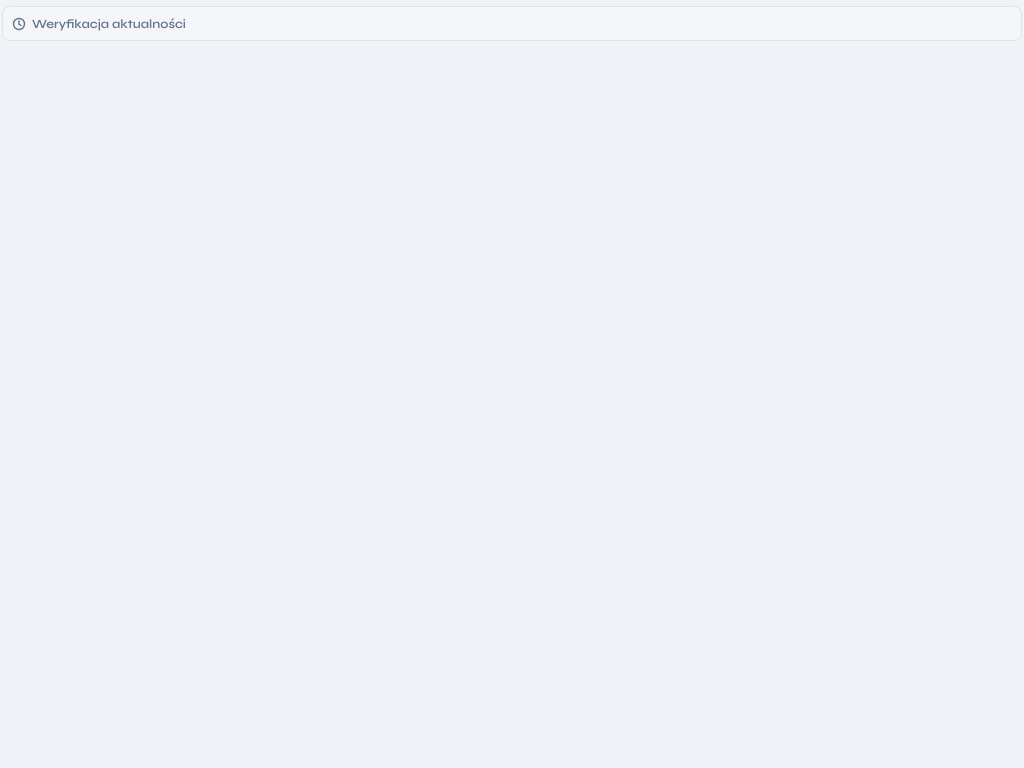
Test: ActualityReviewPanel › konflikt wersji (409) zostawia listę bez rekordu i odświeża ją, pokazując komunikat
Step 1. Click the button "Weryfikacja aktualności" → click(109, 24), box left=2, top=6, right=1022, bottom=41
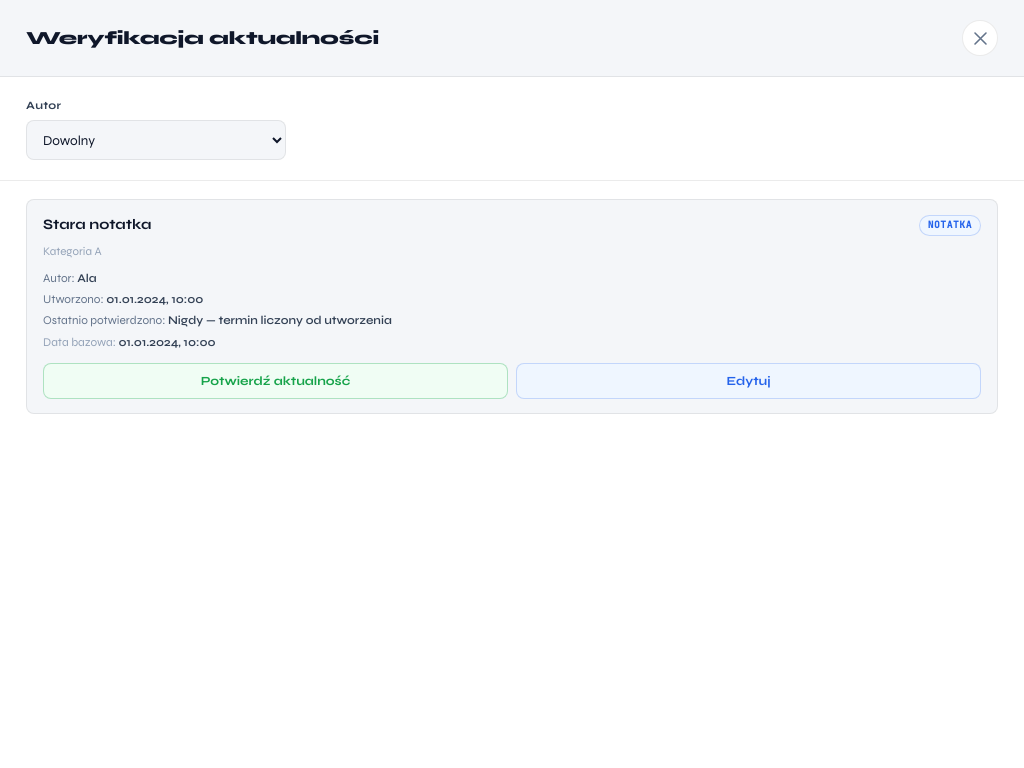
Expected: the dialog "Weryfikacja aktualności" is shown
Expected: the text "Stara notatka" is shown, left=43, top=216, right=151, bottom=233
Step 2. Click the button "Potwierdź aktualność" → click(276, 381), box left=43, top=363, right=508, bottom=399
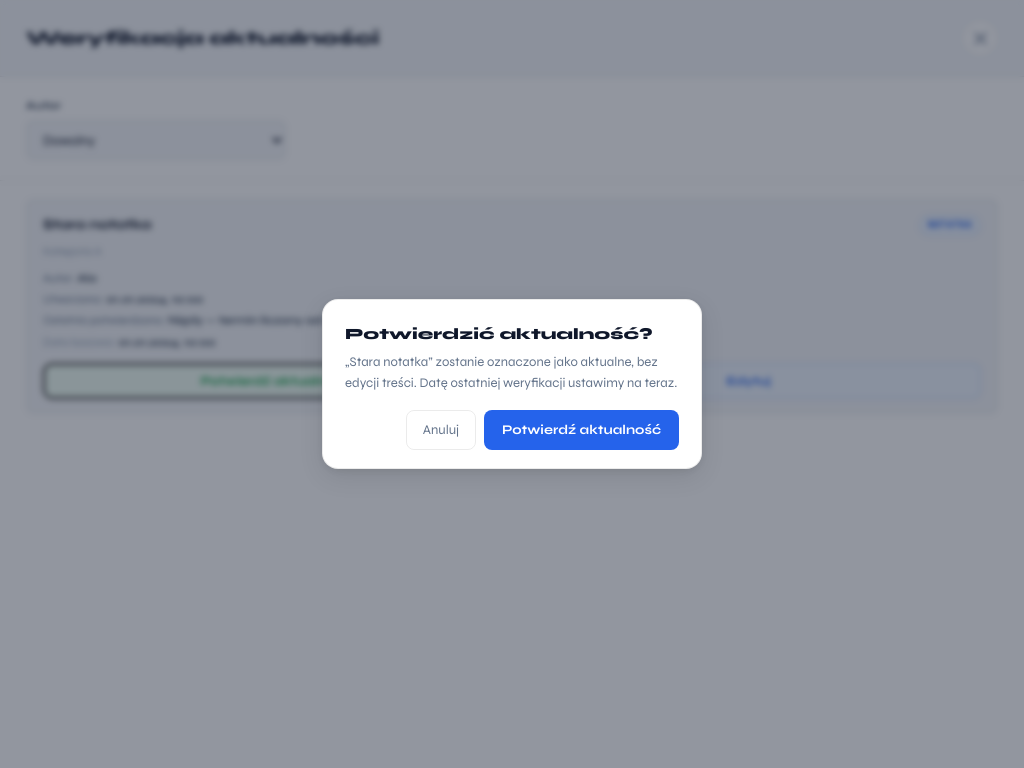
Step 3. Click the button "Potwierdź aktualność" → click(582, 430), box left=484, top=410, right=679, bottom=450
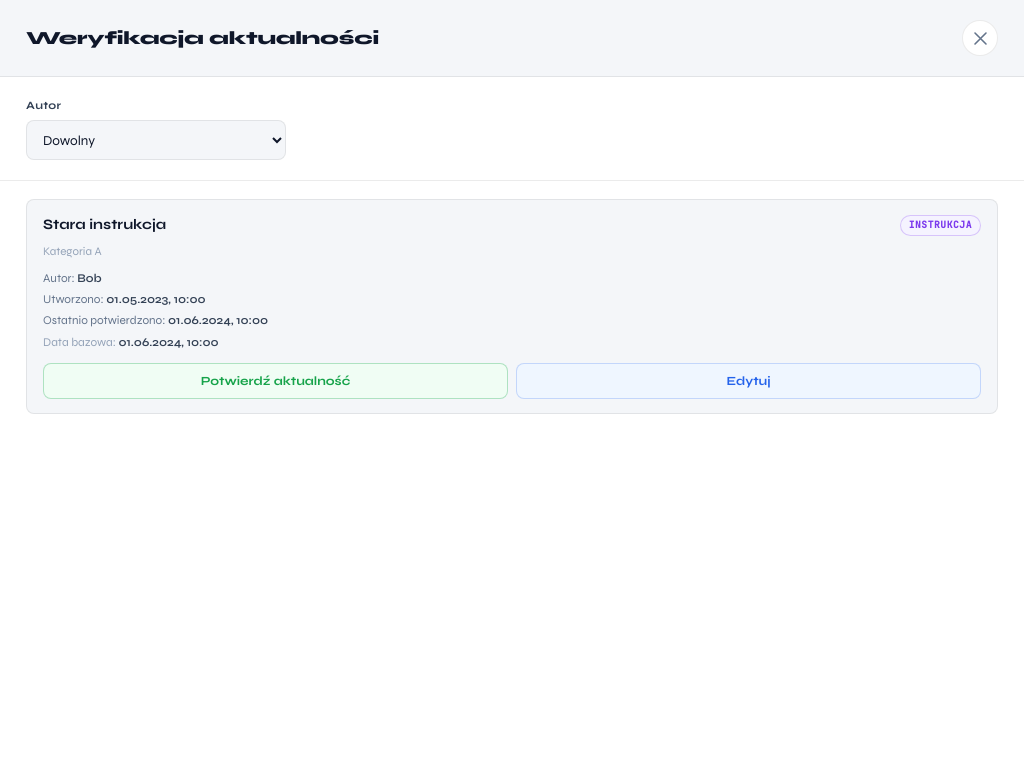
Expected: the text "Stara instrukcja" is shown, left=43, top=216, right=166, bottom=233
Expected: the heading "Potwierdzić aktualność?" is gone
